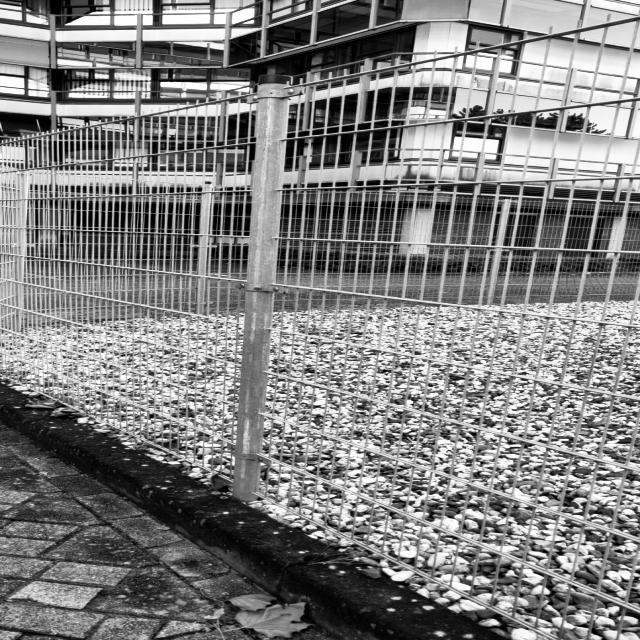fences: (0, 46, 640, 588)
